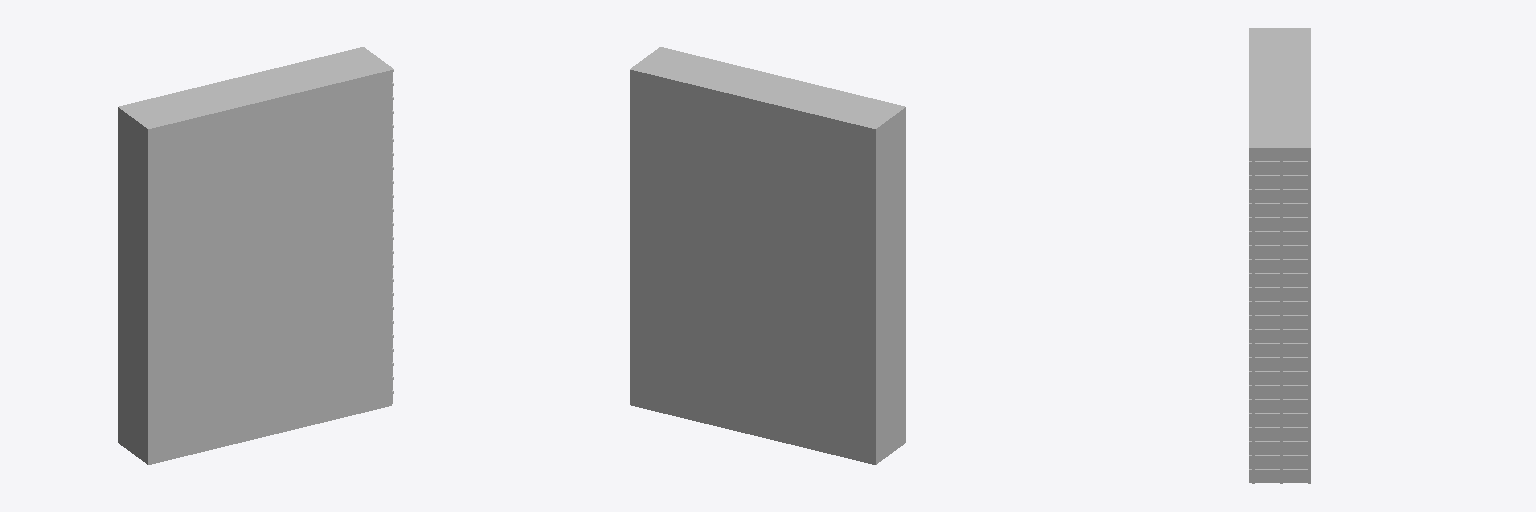
The model's file is 3d fon 1.1-16.obj.
3 renders of one model, left to right at view 1: azimuth 30°, elevation 25°; view 2: azimuth 150°, elevation 25°; view 3: azimuth 270°, elevation 25°, orthographic.
Visible parts, largest first — view 1: object 1; view 2: object 1; view 3: object 1.
Part boxes in pixels (bbox=[...]): object 1: bbox=[118, 47, 393, 464]; object 1: bbox=[630, 47, 905, 464]; object 1: bbox=[1249, 28, 1310, 483].
Size of the model in its own units: 9.2 by 12 by 2.